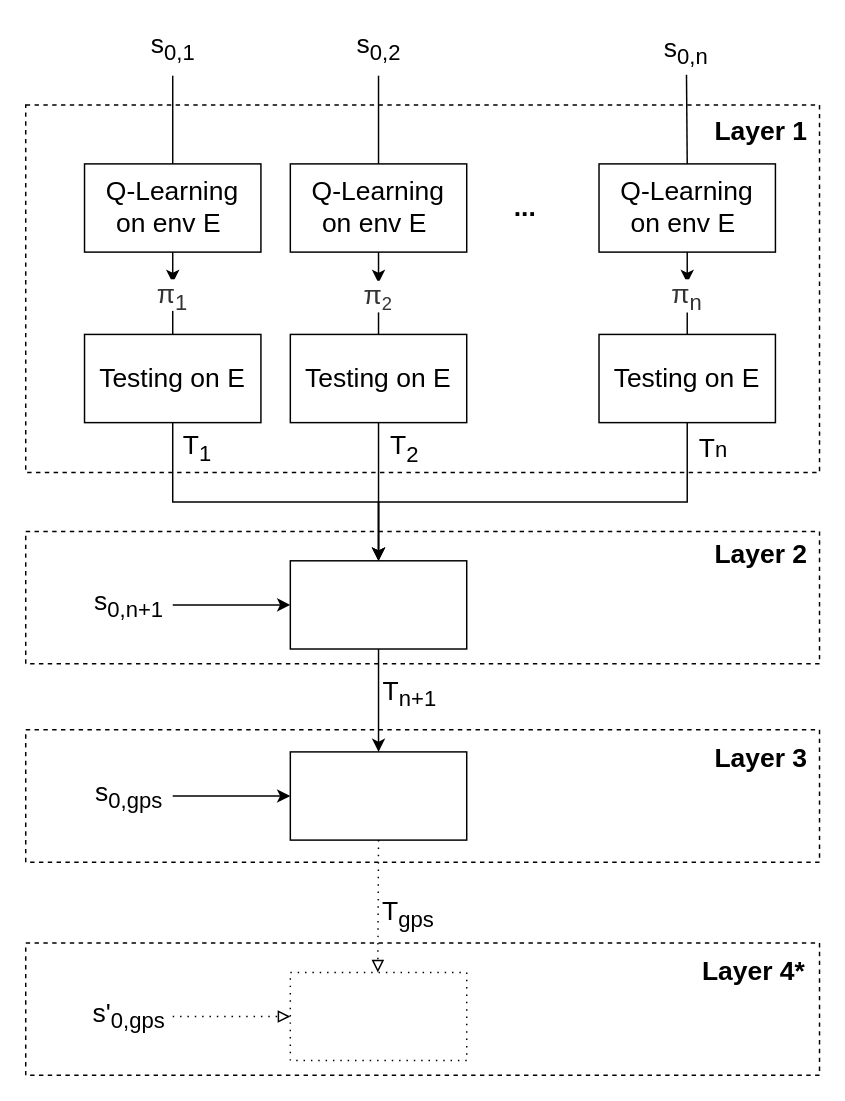
Some shapes in this 845 by 1101 pixel diagram are drawn without their labels. Here are the shapes that lost their labels. From the top down, the centre of each, then its label:
At point (378, 604): "AirSim 3D Simplified Env".
At point (378, 795): "AirSim 3D GeoRef Env".
At point (378, 1016): "Real world".
